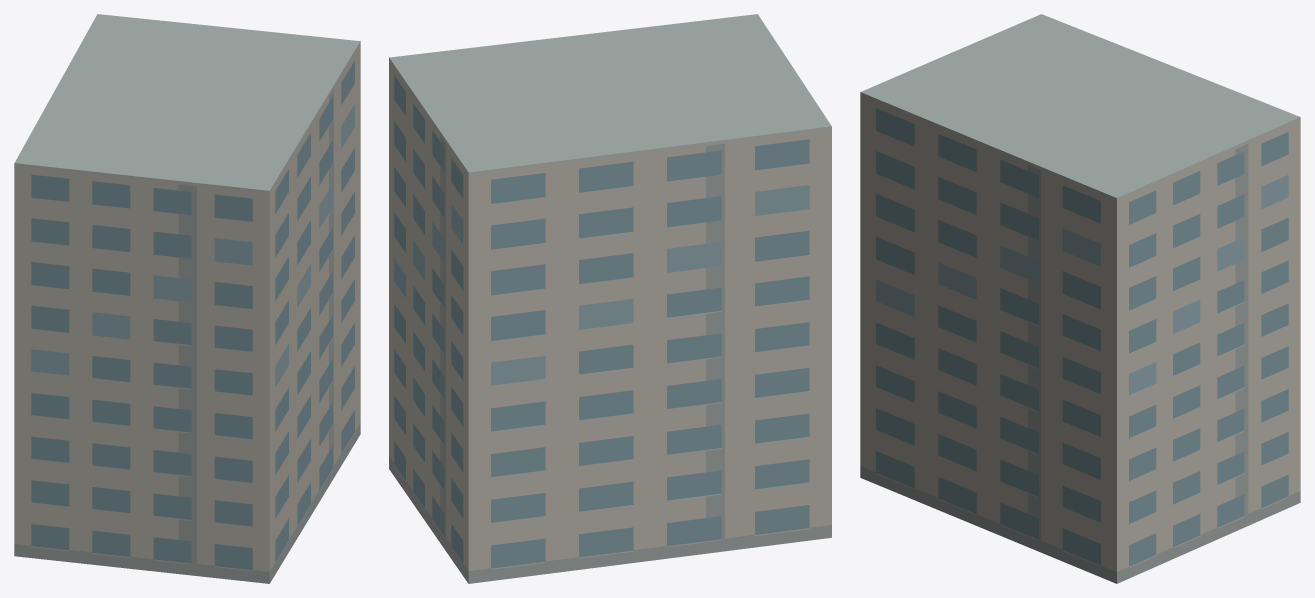
Rendered from survey-upis-32884189.glb.
The picture shows the model from 3 angles, left to right: view 1: azimuth 30°, elevation 25°; view 2: azimuth 150°, elevation 25°; view 3: azimuth 270°, elevation 25°; orthographic projection. The views are drawn at different scales.
Visible parts, largest first — view 1: survey-upis-32884189.tmp; view 2: survey-upis-32884189.tmp; view 3: survey-upis-32884189.tmp.
Part boxes in pixels (<box>): survey-upis-32884189.tmp: <box>14,14,360,583</box>; survey-upis-32884189.tmp: <box>389,14,831,583</box>; survey-upis-32884189.tmp: <box>860,14,1300,583</box>.
Size of the model in its own units: 28.11 by 27.45 by 28.39.
